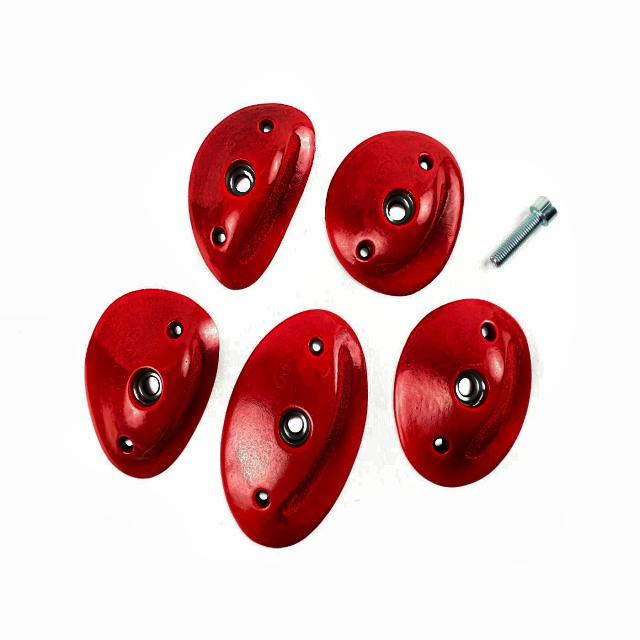Hold: (223, 307, 368, 546), (393, 300, 531, 490), (88, 294, 219, 482), (327, 130, 462, 294), (192, 106, 312, 286)
